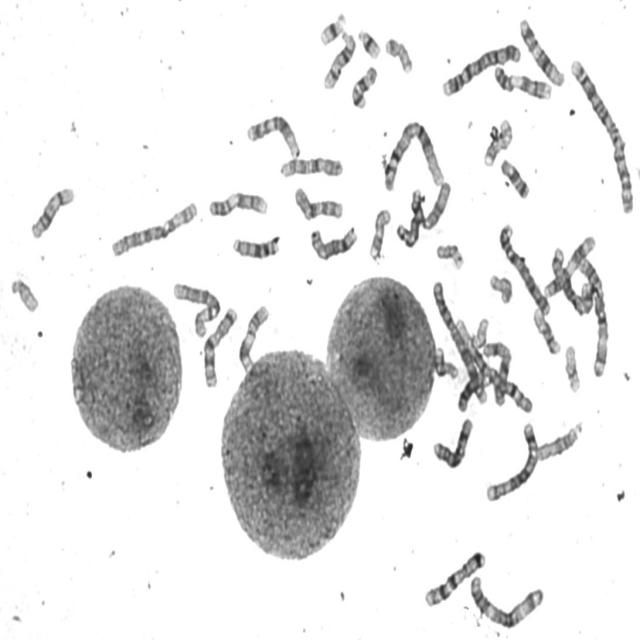A1: (453, 316, 532, 414), (380, 115, 445, 193)
A2: (567, 54, 636, 216), (430, 276, 490, 407)
A3: (468, 571, 546, 630), (576, 252, 610, 378)
B4: (495, 219, 552, 318), (439, 38, 522, 99)
B5: (483, 418, 540, 504), (548, 245, 595, 317)
C10: (291, 182, 345, 222), (276, 151, 344, 180)
C11: (542, 231, 597, 299), (236, 299, 270, 374)
C12: (516, 12, 567, 88), (243, 110, 302, 160)
C6: (108, 196, 199, 259), (170, 277, 223, 339)
C7: (422, 546, 488, 608), (200, 302, 240, 390)
C8: (307, 221, 359, 263), (396, 186, 426, 253)
C9: (490, 60, 554, 101), (206, 187, 270, 220)
D13: (455, 366, 490, 414), (229, 231, 281, 261)
D14: (28, 182, 76, 240), (320, 27, 357, 91)
D15: (535, 417, 584, 463), (421, 178, 456, 229)
E16: (530, 304, 562, 356), (487, 268, 514, 306)
E17: (480, 114, 514, 168), (367, 205, 392, 263)
E18: (498, 154, 531, 201), (348, 61, 378, 111)
F19: (562, 340, 582, 395), (431, 239, 465, 271)
F20: (382, 32, 414, 76), (432, 343, 459, 381)
G21: (316, 9, 347, 47), (355, 24, 382, 60)
G22: (10, 275, 40, 314), (469, 313, 490, 349)
X: (429, 412, 475, 471), (482, 336, 514, 406)
